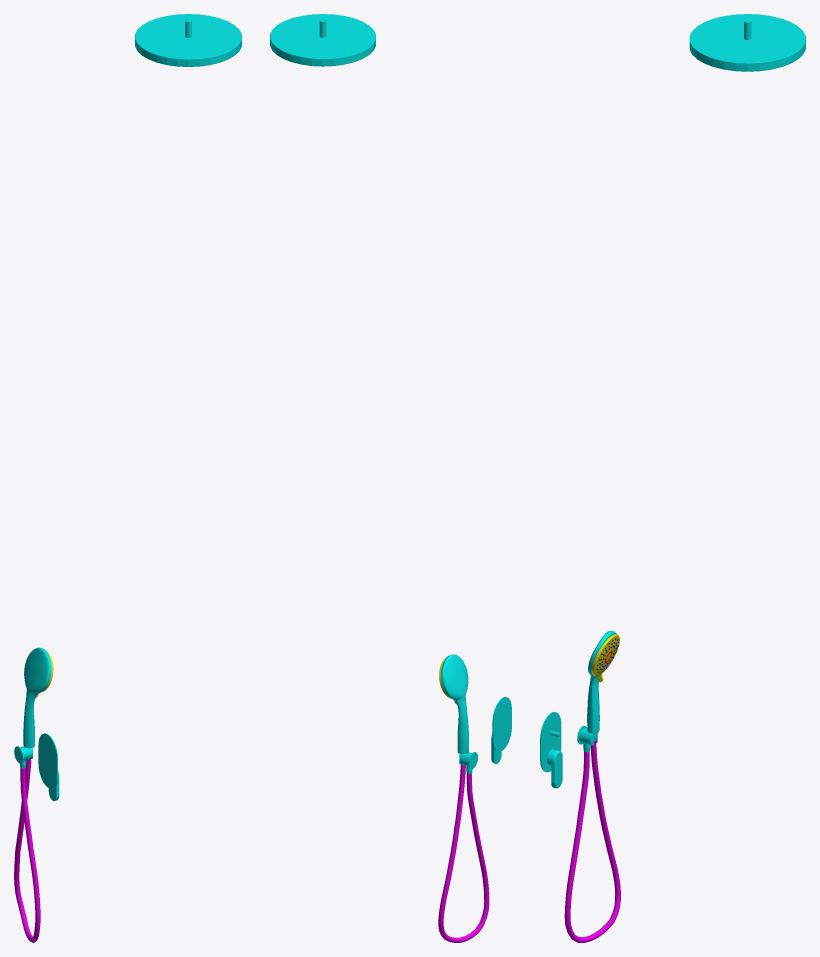
Rendered from Bath03Shower.fbx.
3 views of the same model, side by side, from view 1: azimuth 30°, elevation 25°; view 2: azimuth 150°, elevation 25°; view 3: azimuth 330°, elevation 25° (orthographic). The views are drawn at different scales.
Visible parts, largest first — view 1: OverheadShower, Hoist, Shower, ShowerBackPanel; view 2: OverheadShower, Hoist, Shower, ShowerBackPanel; view 3: OverheadShower, Hoist, Shower, ShowerBackPanel.
Boxes of the visible parts, box(x1,y1,x2,y2) form: OverheadShower: box(135, 14, 241, 66); Hoist: box(14, 759, 40, 942); Shower: box(23, 647, 51, 748); ShowerBackPanel: box(38, 733, 57, 788); OverheadShower: box(270, 14, 375, 66); Hoist: box(438, 765, 489, 942); Shower: box(441, 654, 468, 753); ShowerBackPanel: box(492, 697, 511, 751); OverheadShower: box(689, 14, 805, 71); Hoist: box(564, 740, 620, 942); Shower: box(587, 631, 617, 733); ShowerBackPanel: box(540, 712, 561, 772).
Bounding box in the file's own units: 54.63 × 223 × 25.97.
